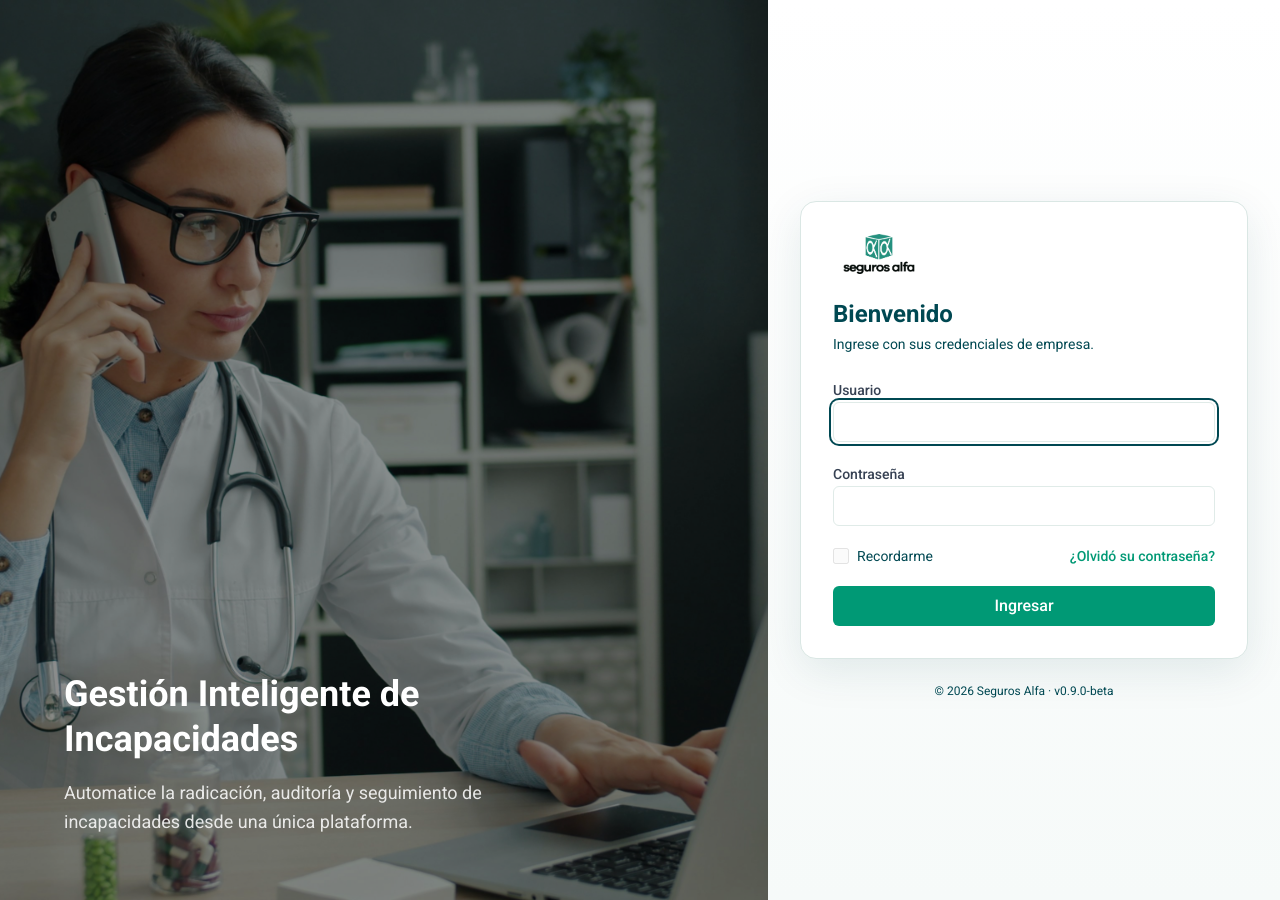
Test: LoginPage › shows validation errors on empty submit
The width and height of the screenshot is (1280, 900).
Click the button "Ingresar": x=1024, y=606 x1=833 y1=586 x2=1215 y2=626
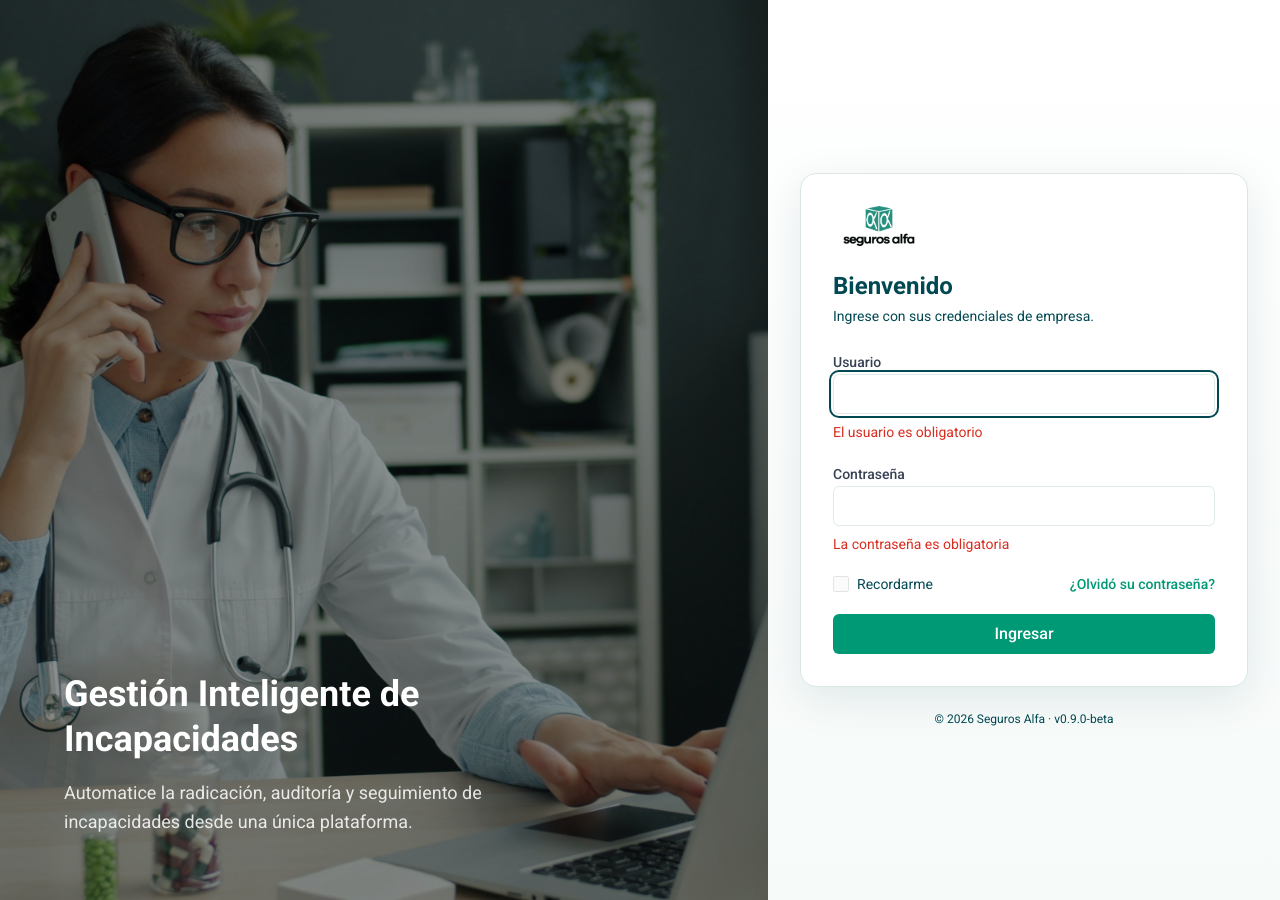
Check: the text "El usuario es obligatorio" is shown, box x1=833 y1=424 x2=982 y2=440
